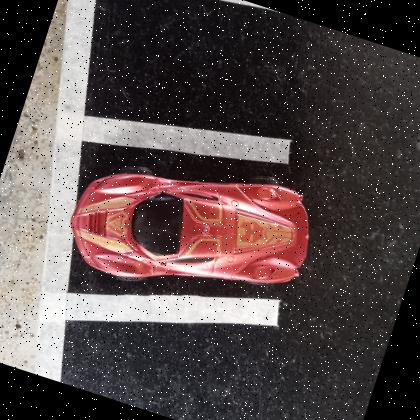Car: (69, 173, 308, 285)
